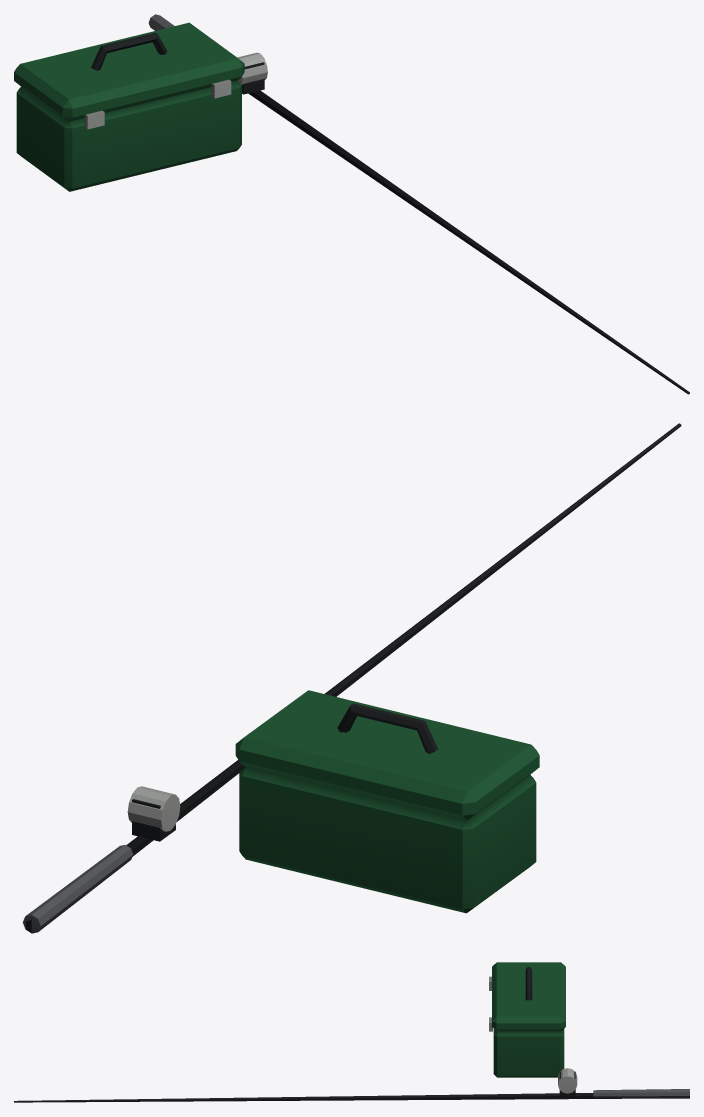
The model's file is boat_fishing_box.glb.
3 renders of one model, top to bottom at view 1: azimuth 30°, elevation 25°; view 2: azimuth 150°, elevation 25°; view 3: azimuth 270°, elevation 25°, orthographic. The views are drawn at different scales.
Parts seen in each view (by area): view 1: boat_fishing_box_LOD0, boat_fishing_rod_LOD0; view 2: boat_fishing_box_LOD0, boat_fishing_rod_LOD0; view 3: boat_fishing_box_LOD0, boat_fishing_rod_LOD0.
Boxes of the visible parts, x1,y1,x2,y2 form: boat_fishing_box_LOD0: [14, 22, 244, 191]; boat_fishing_rod_LOD0: [148, 14, 689, 394]; boat_fishing_box_LOD0: [235, 690, 539, 913]; boat_fishing_rod_LOD0: [22, 423, 681, 933]; boat_fishing_box_LOD0: [489, 962, 565, 1077]; boat_fishing_rod_LOD0: [14, 1068, 689, 1102].
Size of what is drawn, in the model's own units: 0.6176 by 0.2574 by 2.1.
